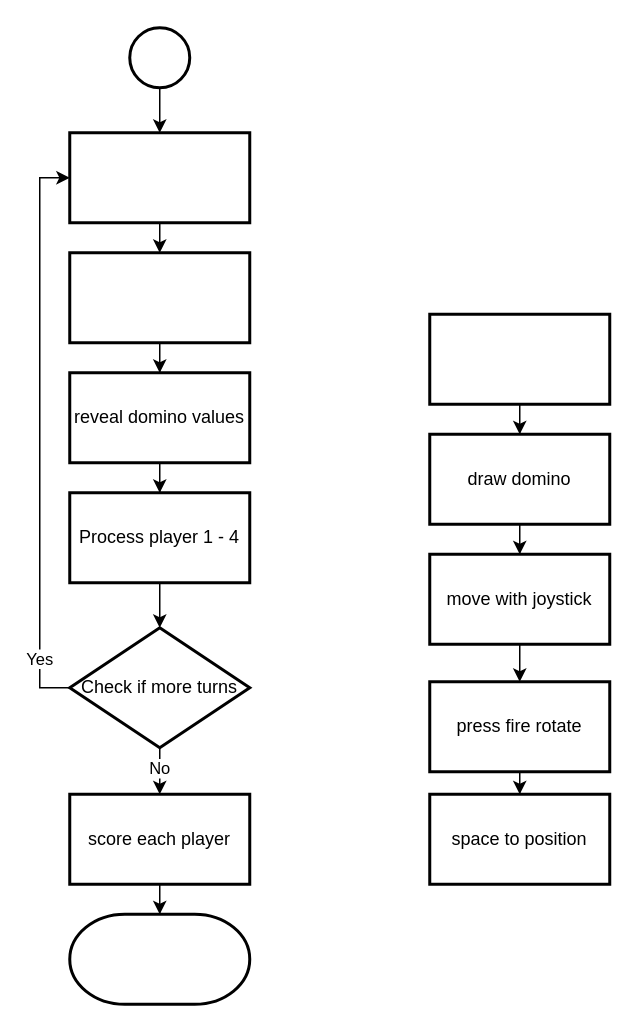
Some shapes in this 638 by 1031 pixel diagram are drawn without their labels. Here are the shapes that lost their labels. From the top down, the centre of each, then its label:
the point at 159,177: Select 4 dominos and display
the point at 159,297: Each player select a domino
the point at 519,358: display player screen
the point at 159,958: Exit main
